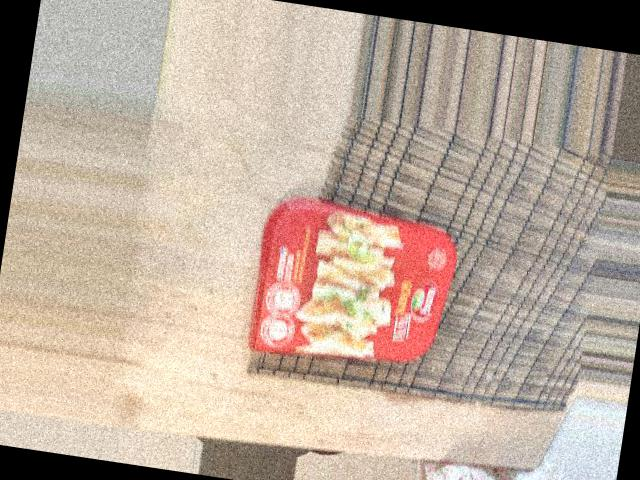cheese: (363, 145, 512, 357)
